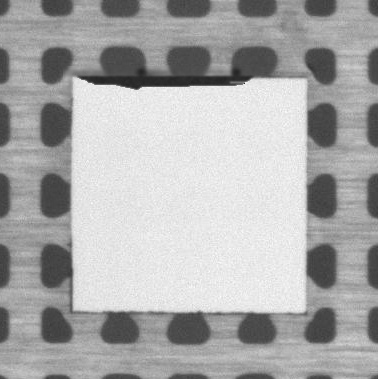DIE_BROKEN: (78, 70, 256, 91)
